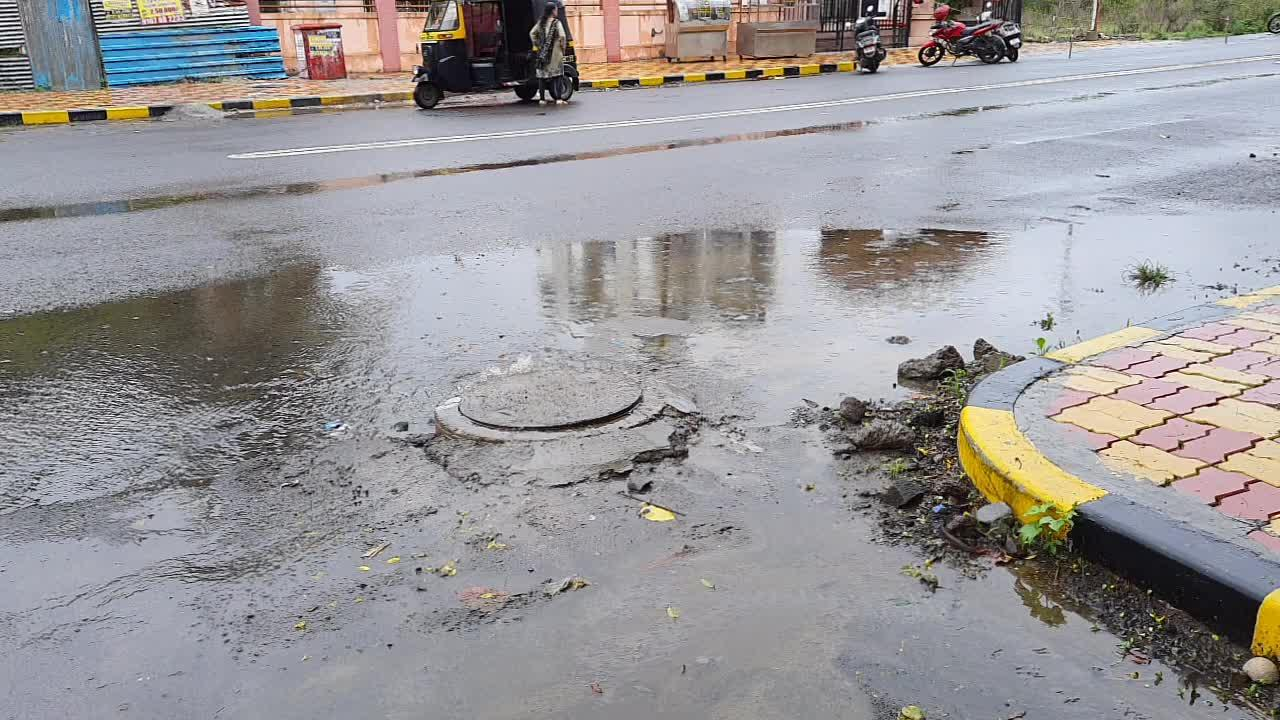drainage_overflow: (343, 274, 689, 475)
